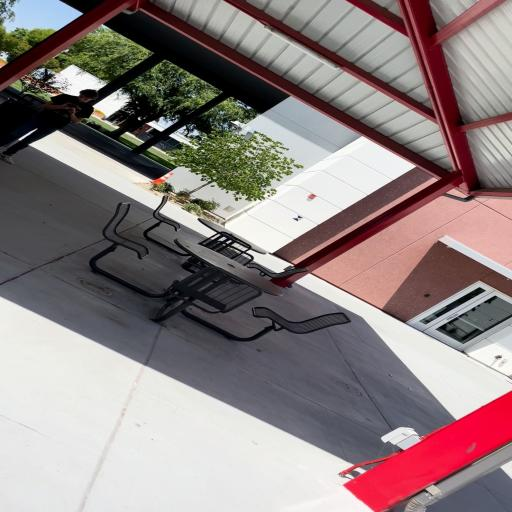target2: (291, 215, 304, 222)
